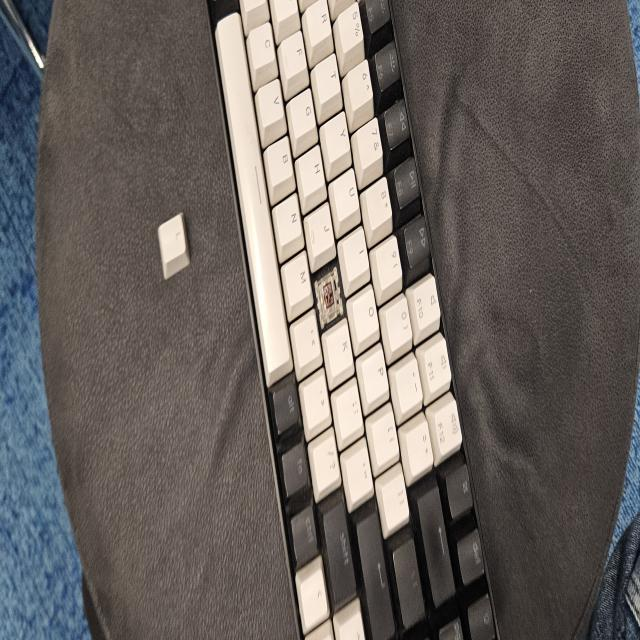C: (317, 266, 341, 322), (319, 274, 341, 318)
